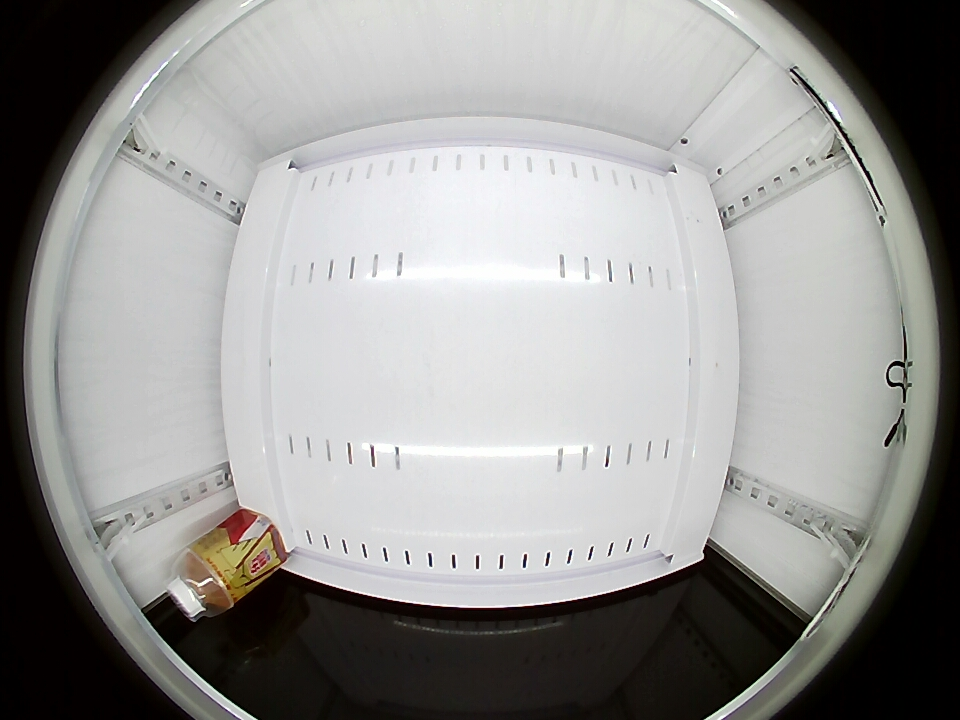dongpeng-b: (166, 545, 238, 620)
